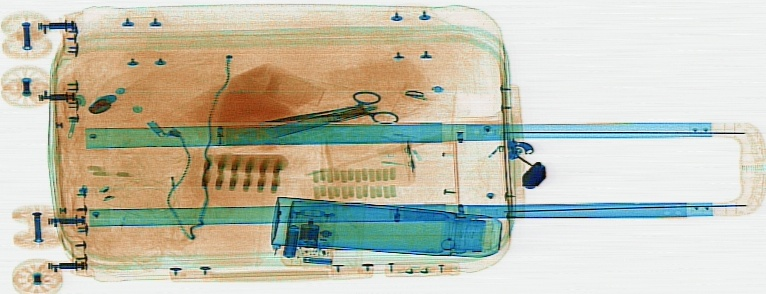scissors: (264, 89, 401, 127)
